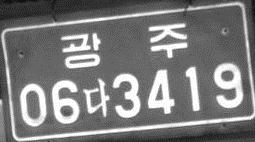0: (19, 82, 46, 127)
1: (178, 68, 207, 112)
3: (112, 73, 140, 118)
4: (147, 70, 175, 114)
6: (51, 78, 79, 124)
9: (213, 62, 244, 109)
광주_D: (60, 22, 188, 68)
다: (82, 78, 109, 118)
